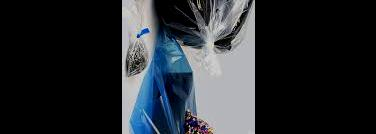Plastic: (128, 34, 203, 133), (153, 0, 256, 66), (122, 15, 152, 84)
